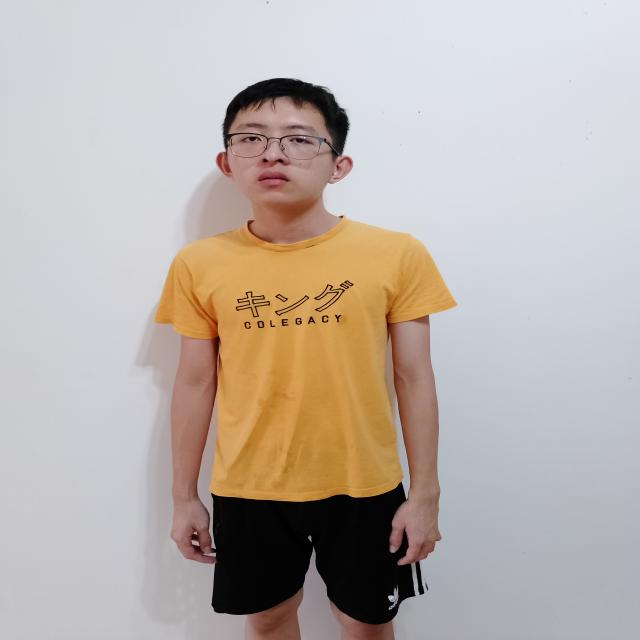person_without_labcoat: (157, 78, 456, 640)
